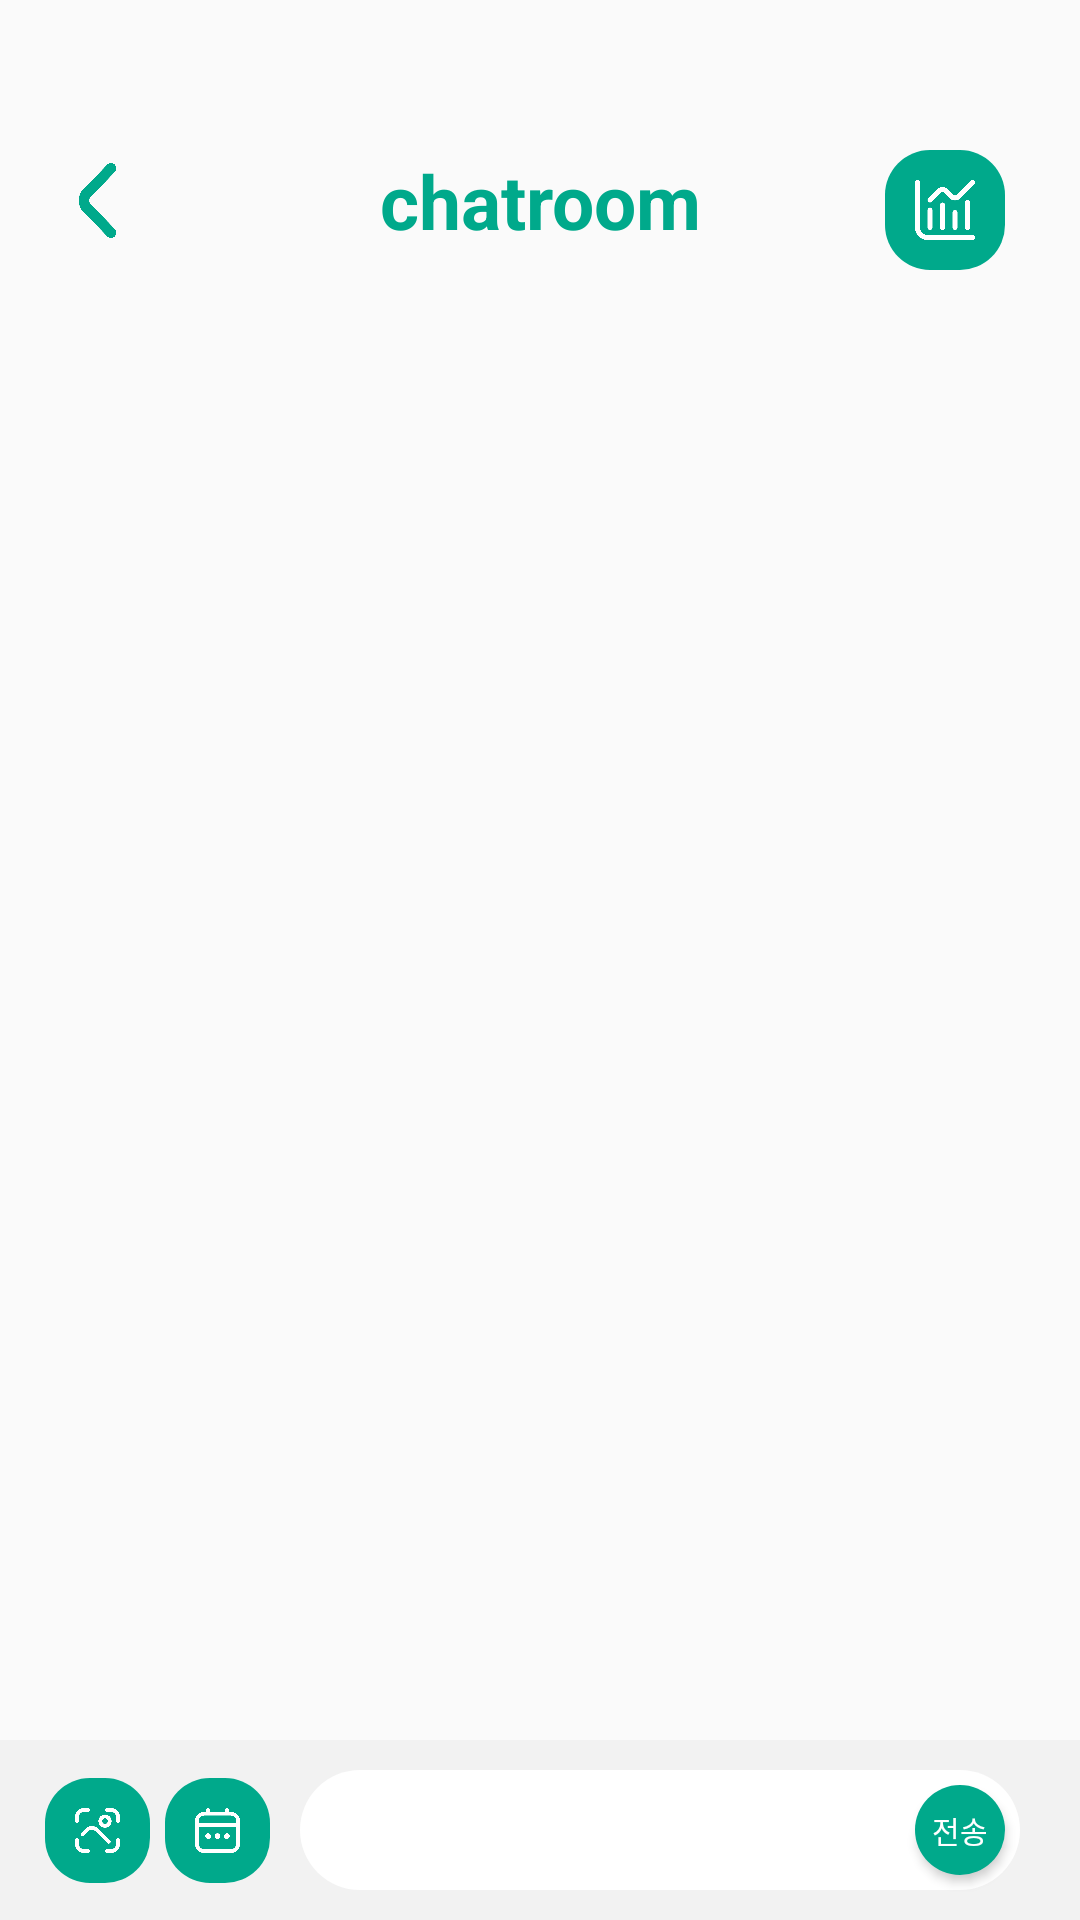

Icons on this 1080 × 1920 Android screen, each with its box as (x1, y1, x2, y2):
back: (79, 163, 116, 238)
calendar: (165, 1778, 270, 1883)
